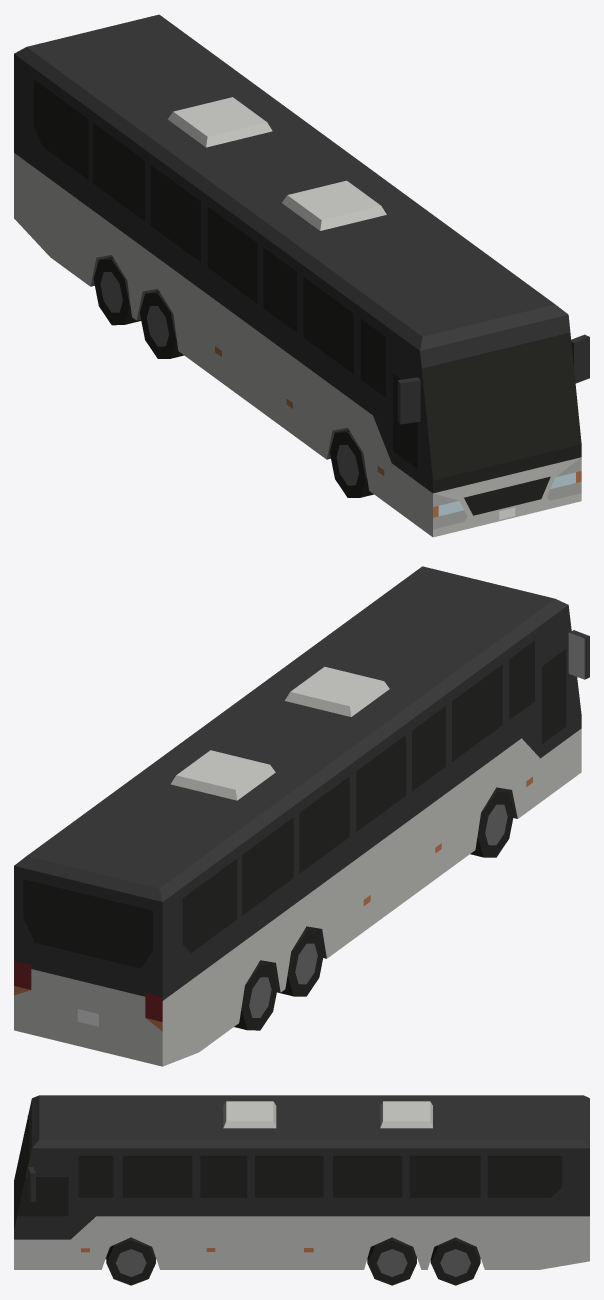
Rendered from Veh_Coach_01_White.obj.
3 renders of one model, top to bottom at view 1: azimuth 30°, elevation 25°; view 2: azimuth 150°, elevation 25°; view 3: azimuth 270°, elevation 25°, orthographic. The views are drawn at different scales.
Size of the model in its own units: 1.75 by 1.9 by 6.68.
